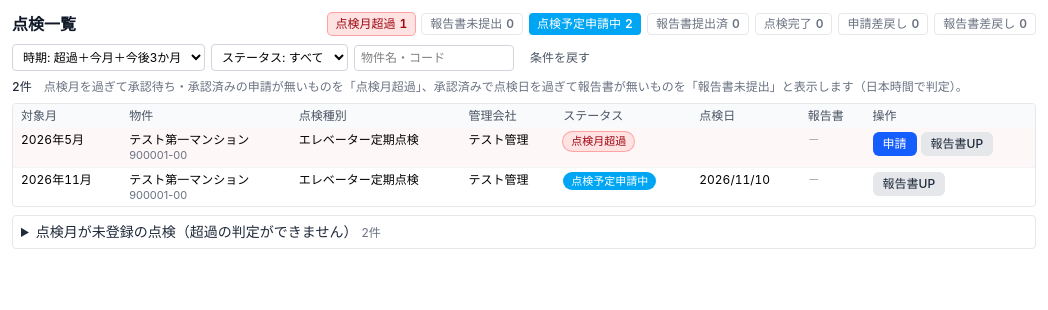
it: 点検一覧（InspectionPortal） › 件数バッジとステータスの絞り込みは点検月の無い点検も対象にし、該当があれば開いて出す
Check: the heading "点検一覧" is shown, box 12,12 -> 76,36
Click the button "点検予定申請中 2": (585, 24) 529,13 -> 641,35
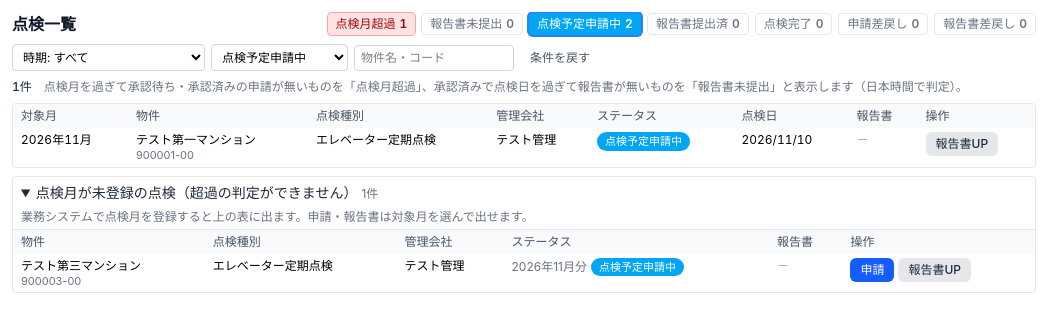
Check: the number of rows with test id "unscheduled-row" is 1, box 13,254 -> 1035,292
Check: the text "テスト第三マンション" is shown, box 21,258 -> 141,273
